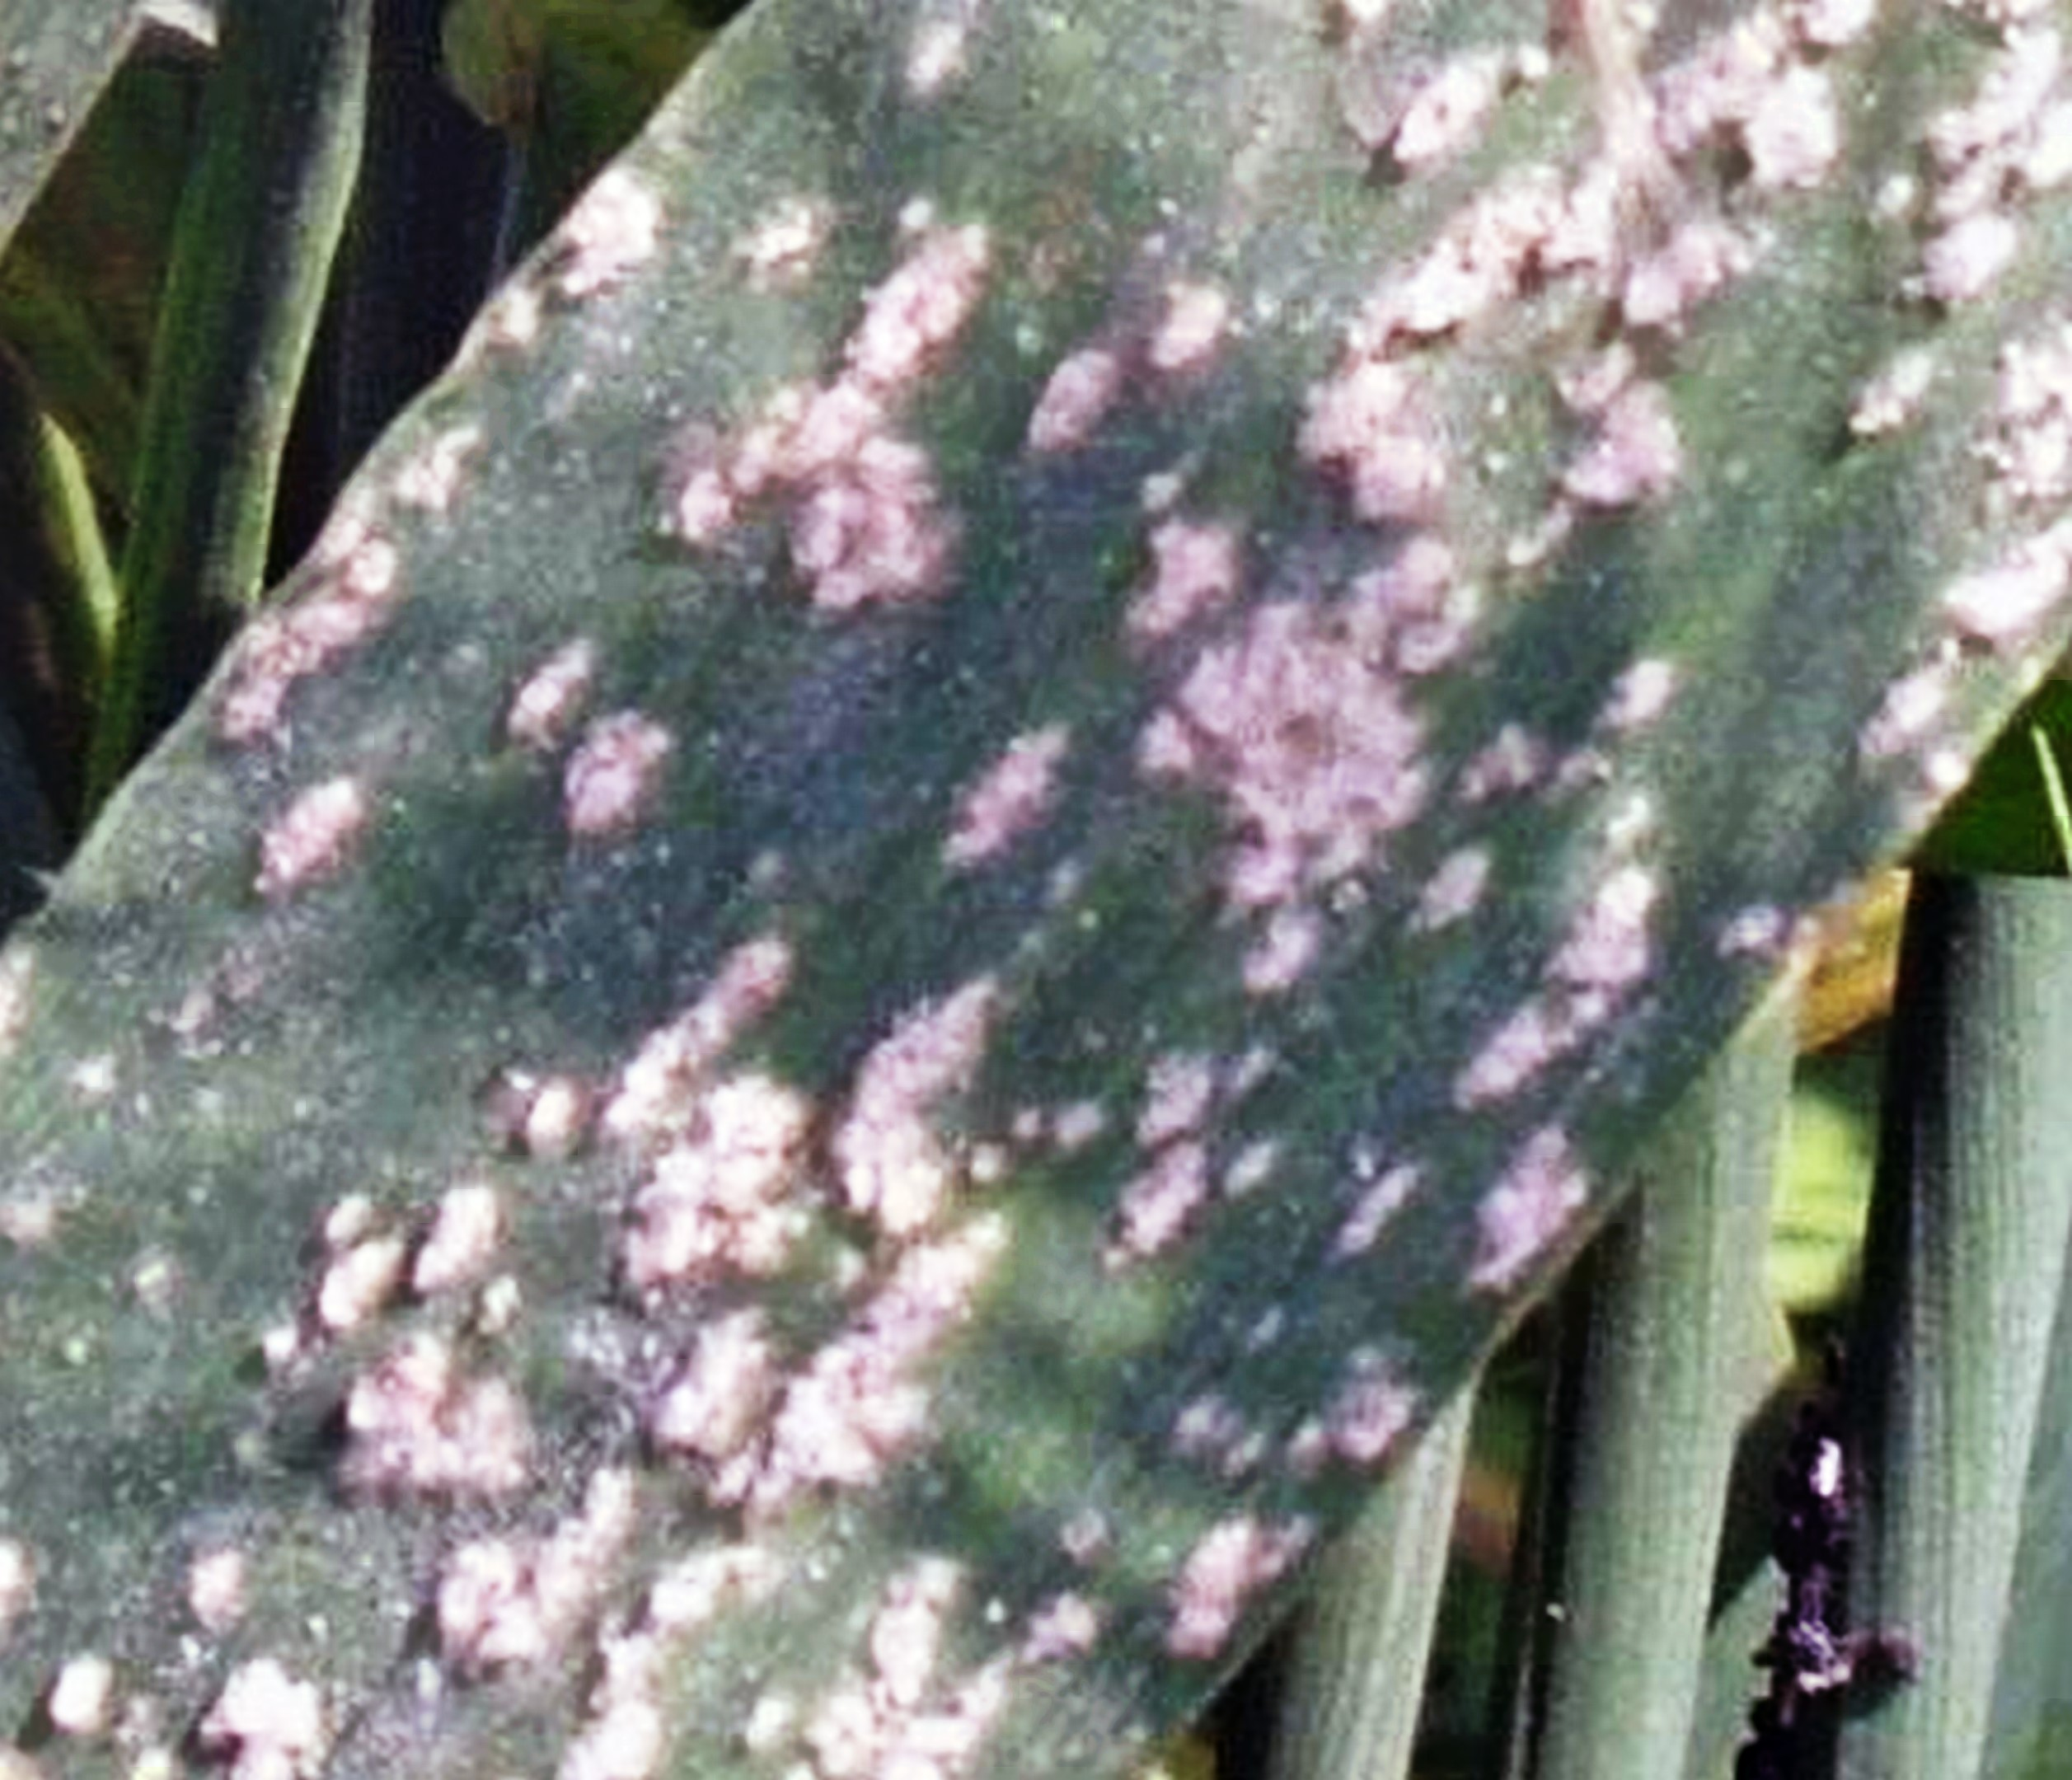Powdery Mildew: (201, 226, 1767, 1743)
